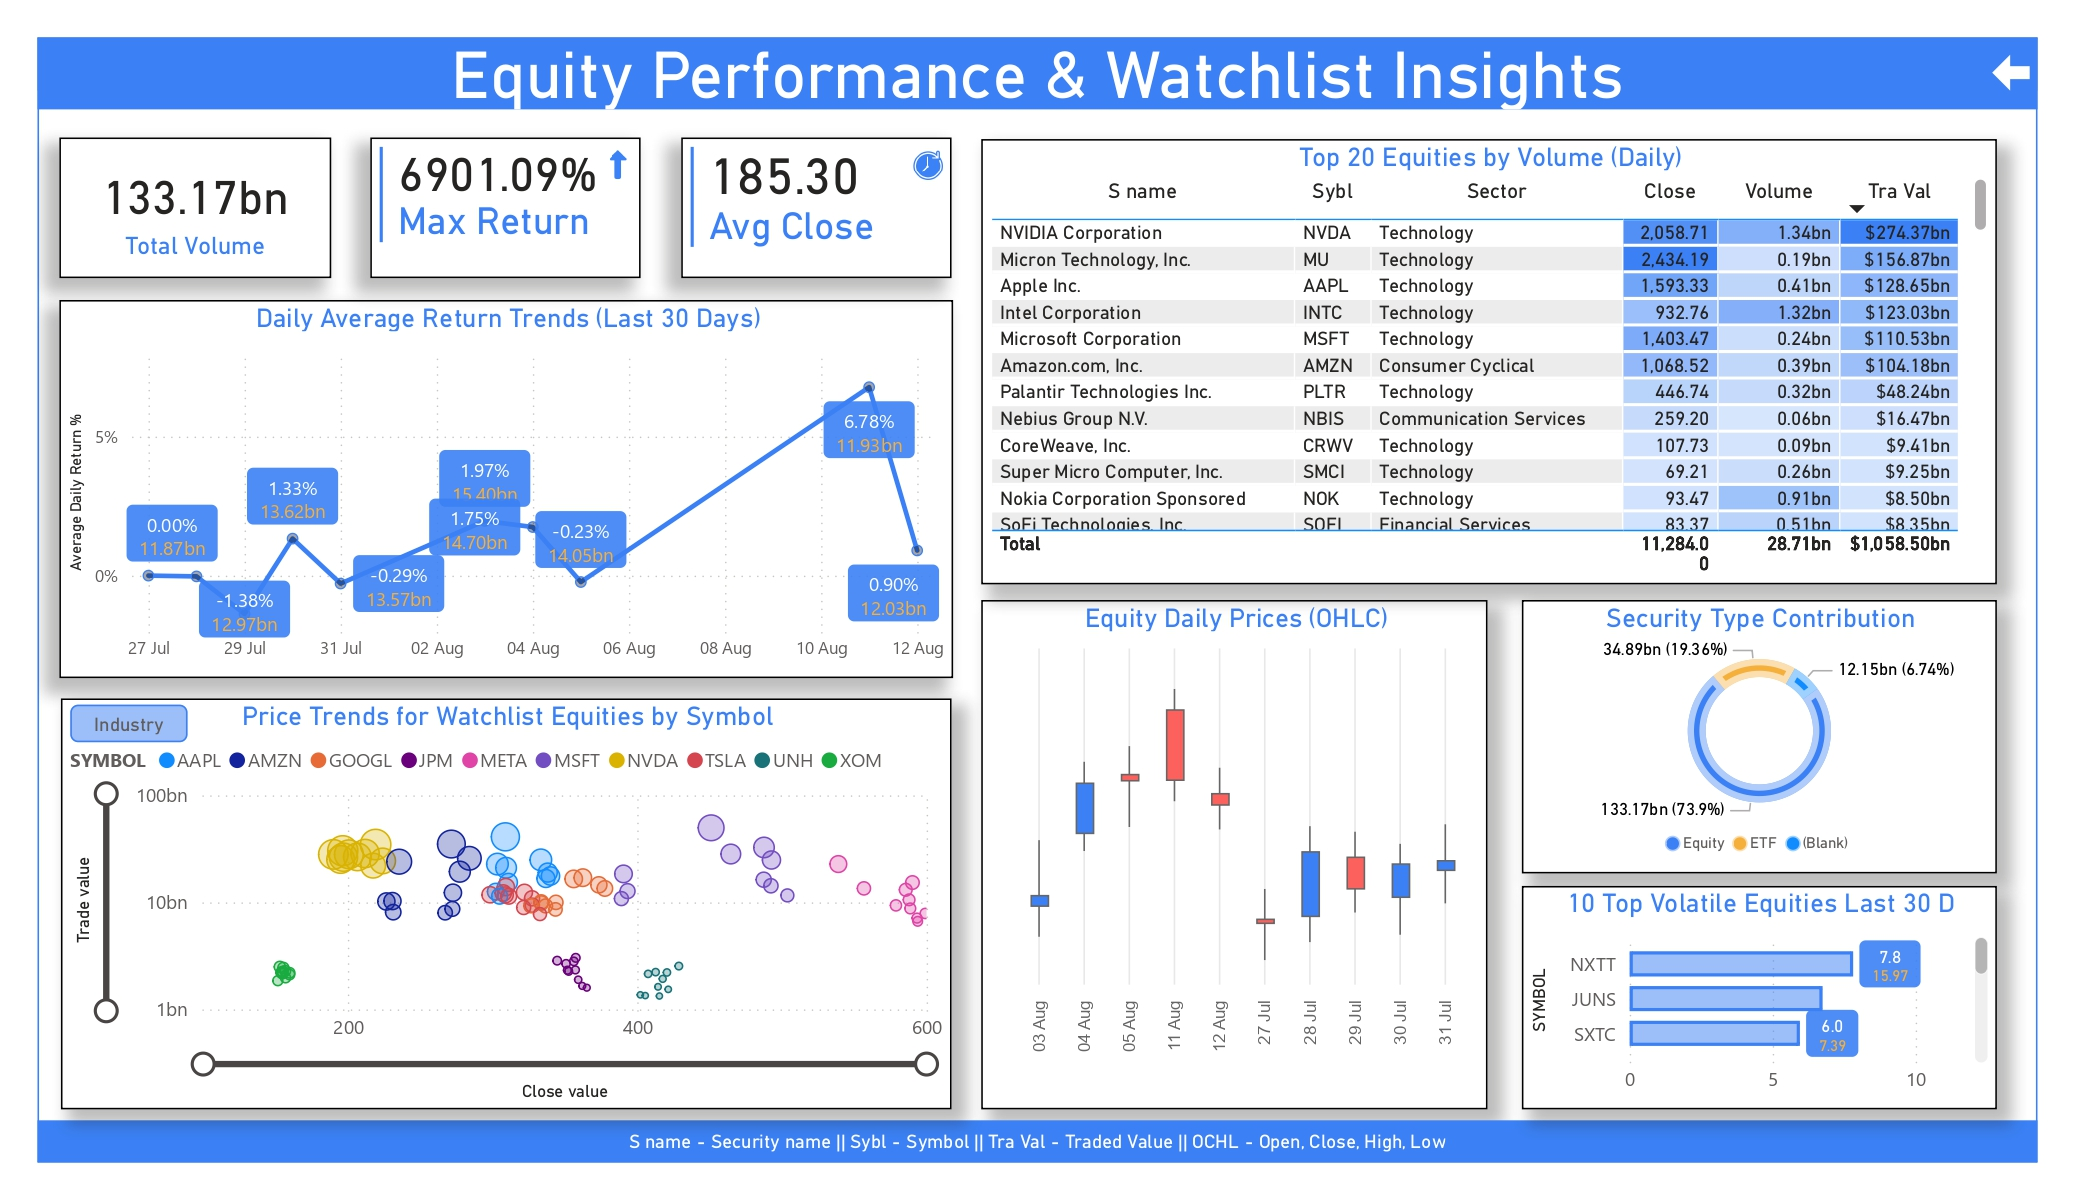

The dashboard page shown, as its layout file describes it:
{"tool":"powerbi","page":{"name":"Page 2","canvas":[1280,720],"ordinal":1},"visuals":[{"type":"shape","box":[0,0,1280,720.2],"z":0},{"type":"card","fields":{"Values":["Sum(VW_SECURITY_LAST_30D_DAILY_RETURN.VOLUME)"]},"box":[14.4,64.4,173.3,90],"z":1000},{"type":"multiRowCard","fields":{"Values":["Max(VW_SECURITY_LAST_30D_DAILY_RETURN.DAILY_RETURN)"]},"box":[213.2,64.4,173.3,90],"z":1000,"group":"g1"},{"type":"multiRowCard","fields":{"Values":["Avg(VW_SECURITY_LAST_30D_DAILY_RETURN.CLOSE)"]},"box":[412.2,64.4,173.3,90],"z":2000,"group":"g2"},{"type":"lineChart","title":"Daily Average Return Trends (Last 30 Days)","fields":{"Y":["Avg(VW_SECURITY_LAST_30D_DAILY_RETURN.DAILY_RETURN)"],"Category":["VW_SECURITY_LAST_30D_DAILY_RETURN.TRADE_DATE"]},"box":[14.4,167.8,571.1,242.2],"z":2000},{"type":"PBI_CV_886A053E_9DFD_4EA0_A47D_CCAEB89AF969","title":"Equity Daily Prices (OHLC)","fields":{"open":["Sum(VW_SECURITY_DAILY_PRICES.OPEN)"],"high":["Sum(VW_SECURITY_DAILY_PRICES.HIGH)"],"close":["Sum(VW_SECURITY_DAILY_PRICES.CLOSE)"],"low":["Sum(VW_SECURITY_DAILY_PRICES.LOW)"],"Category":["VW_SECURITY_DAILY_PRICES.date & month"]},"box":[603.6,360,324.5,326.4],"z":3000},{"type":"tableEx","title":"Top 20 Equities by Volume (Daily)","fields":{"Values":["VW_TOP20_EQUITY_BY_VOLUME_DAILY.SECURITY_NAME","VW_TOP20_EQUITY_BY_VOLUME_DAILY.SYMBOL","VW_TOP20_EQUITY_BY_VOLUME_DAILY.SECTOR","Sum(VW_TOP20_EQUITY_BY_VOLUME_DAILY.CLOSE)","Sum(VW_TOP20_EQUITY_BY_VOLUME_DAILY.VOLUME)","Sum(VW_TOP20_EQUITY_BY_VOLUME_DAILY.TRADED_VALUE)"]},"box":[603.6,64.5,650,285.5],"z":4000},{"type":"shape","box":[0,0,1280,45.6],"z":5000},{"type":"shape","box":[0,693.4,1280,26.4],"z":6000},{"type":"group","id":"g1","title":"Group 1","box":[213.2,64.4,173.6,90],"z":7000},{"type":"group","id":"g2","title":"Group 2","box":[412.2,64.4,173.3,90],"z":8000},{"type":"image","box":[355.9,64.5,30.9,34.5],"z":9000,"group":"g1"},{"type":"donutChart","title":"Security Type Contribution","fields":{"Category":["VW_SECURITY_DAILY_PRICES.SECURITY_TYPE"],"Y":["Sum(VW_SECURITY_DAILY_PRICES.VOLUME)"]},"box":[950,360,303.6,174.5],"z":9000},{"type":"image","box":[555,64.5,30.5,34.5],"z":10000,"group":"g2"},{"type":"clusteredBarChart","title":"10 Top Volatile Equities Last 30 D","fields":{"Category":["VW_SECURITY_LAST_30D_DAILY_RETURN.SYMBOL"],"Y":["VW_SECURITY_LAST_30D_DAILY_RETURN.Volatility (30D)"]},"box":[950,542.7,303.6,143.6],"z":10000},{"type":"scatterChart","title":"Price Trends for Watchlist Equities by Symbol","fields":{"Category":["VW_WATCHLIST_HISTORY.TRADE_DATE"],"X":["Sum(VW_WATCHLIST_HISTORY.CLOSE)"],"Y":["Sum(VW_WATCHLIST_HISTORY.TRADED_VALUE)"],"Size":["Sum(VW_WATCHLIST_HISTORY.VOLUME)"],"Series":["VW_WATCHLIST_HISTORY.SYMBOL"]},"box":[14.5,422.7,570.9,263.6],"z":11000},{"type":"actionButton","title":"Indusry","box":[20.9,427.3,75.5,23.6],"z":13000},{"type":"shape","box":[1250.9,10.9,24.5,22.7],"z":15000}]}

Visuals, with their boxes in screenshot pixels (x1, y1, x2, y2):
shape: 49 32 2022 1143
card - Sum(VW_SECURITY_LAST_30D_DAILY_RETURN.VOLUME): 71 132 338 271
multiRowCard - Max(VW_SECURITY_LAST_30D_DAILY_RETURN.DAILY_RETURN): 377 132 645 271
multiRowCard - Avg(VW_SECURITY_LAST_30D_DAILY_RETURN.CLOSE): 684 132 951 271
"Daily Average Return Trends (Last 30 Days)" lineChart: 71 291 951 665
"Equity Daily Prices (OHLC)" PBI_CV_886A053E_9DFD_4EA0_A47D_CCAEB89AF969: 979 588 1480 1091
"Top 20 Equities by Volume (Daily)" tableEx: 979 132 1982 572
shape: 49 32 2022 103
shape: 49 1102 2022 1142
"Group 1" group: 377 132 645 271
"Group 2" group: 684 132 951 271
image: 597 132 645 185
"Security Type Contribution" donutChart: 1514 588 1982 857
image: 904 132 951 185
"10 Top Volatile Equities Last 30 D" clusteredBarChart: 1514 869 1982 1091
"Price Trends for Watchlist Equities by Symbol" scatterChart: 71 684 951 1091
"Indusry" actionButton: 81 691 197 728
shape: 1978 49 2015 84
